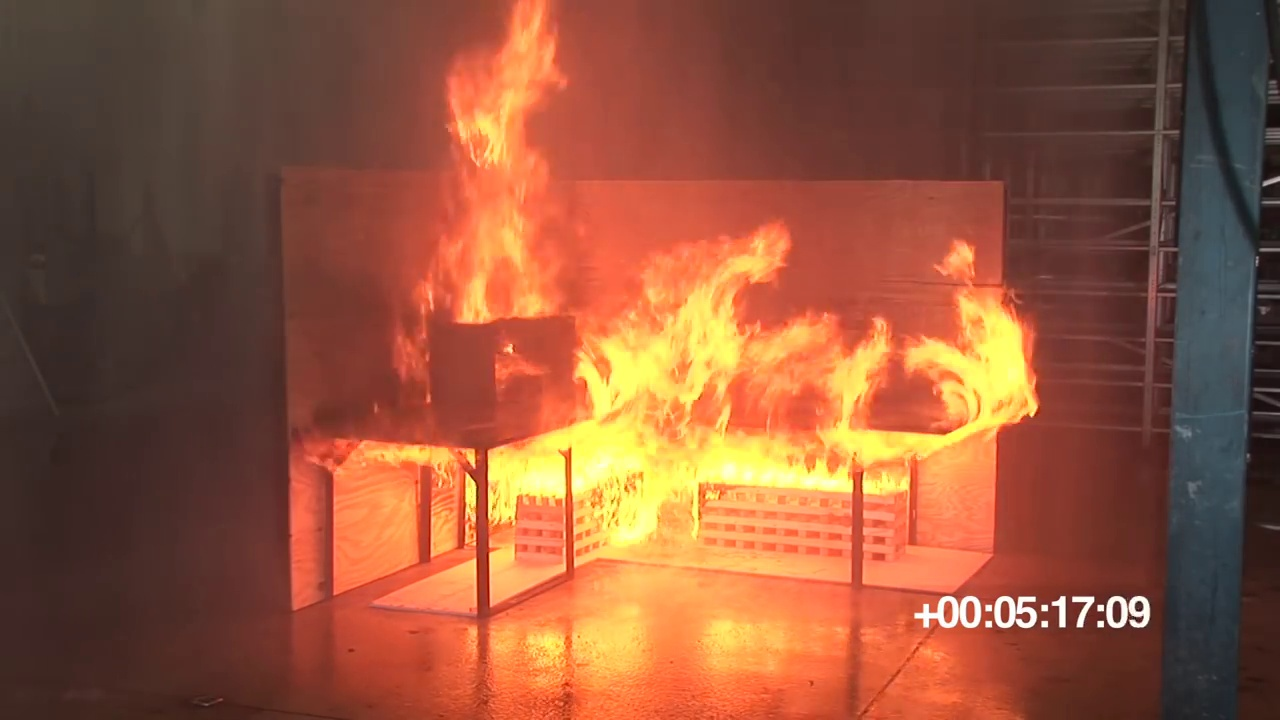fire: (577, 219, 888, 433), (416, 6, 555, 320), (498, 438, 908, 498), (907, 251, 1032, 425)
